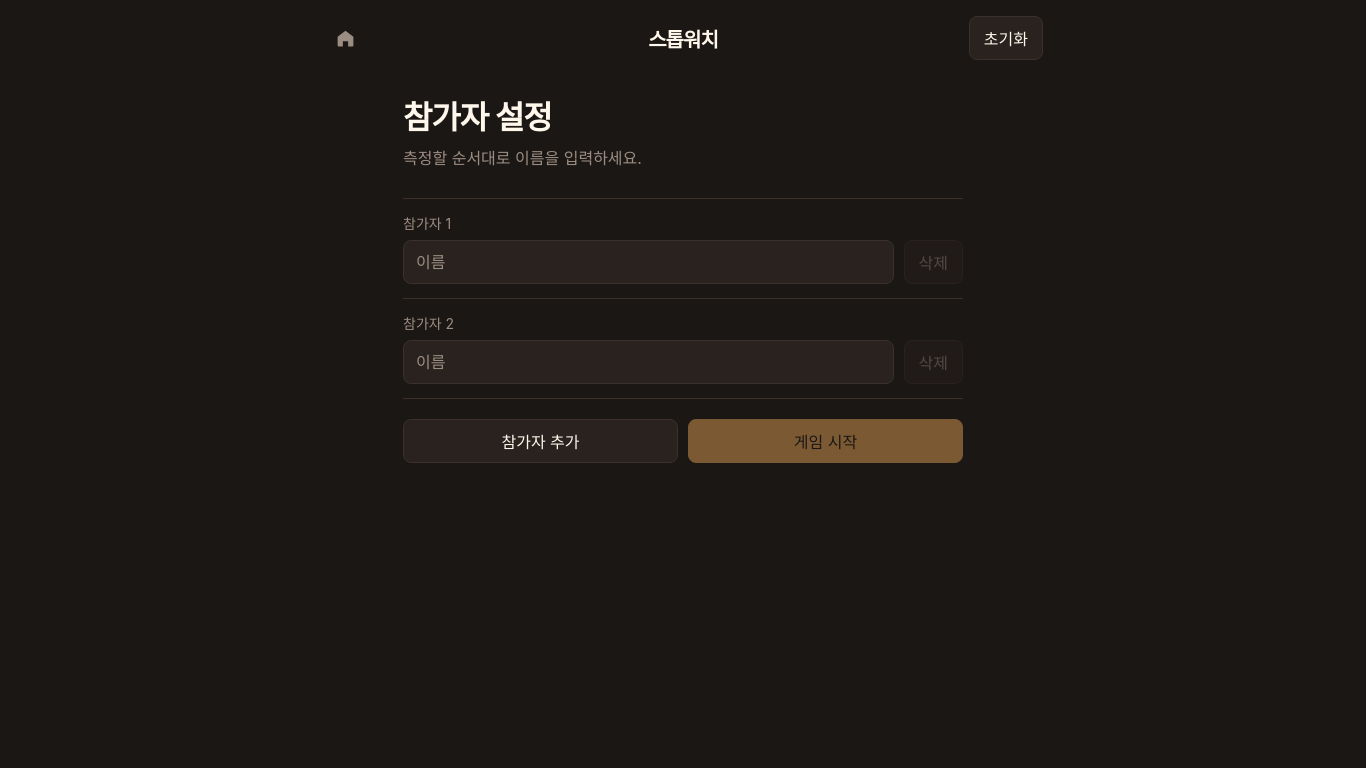
Test: StopwatchPage › 이름을 입력하면 홈 이동 전에 종료 확인을 한다
The image size is (1366, 768).
Type "짱구" into the field labelled "참가자 1" at (648, 262), box [403,240,894,284]
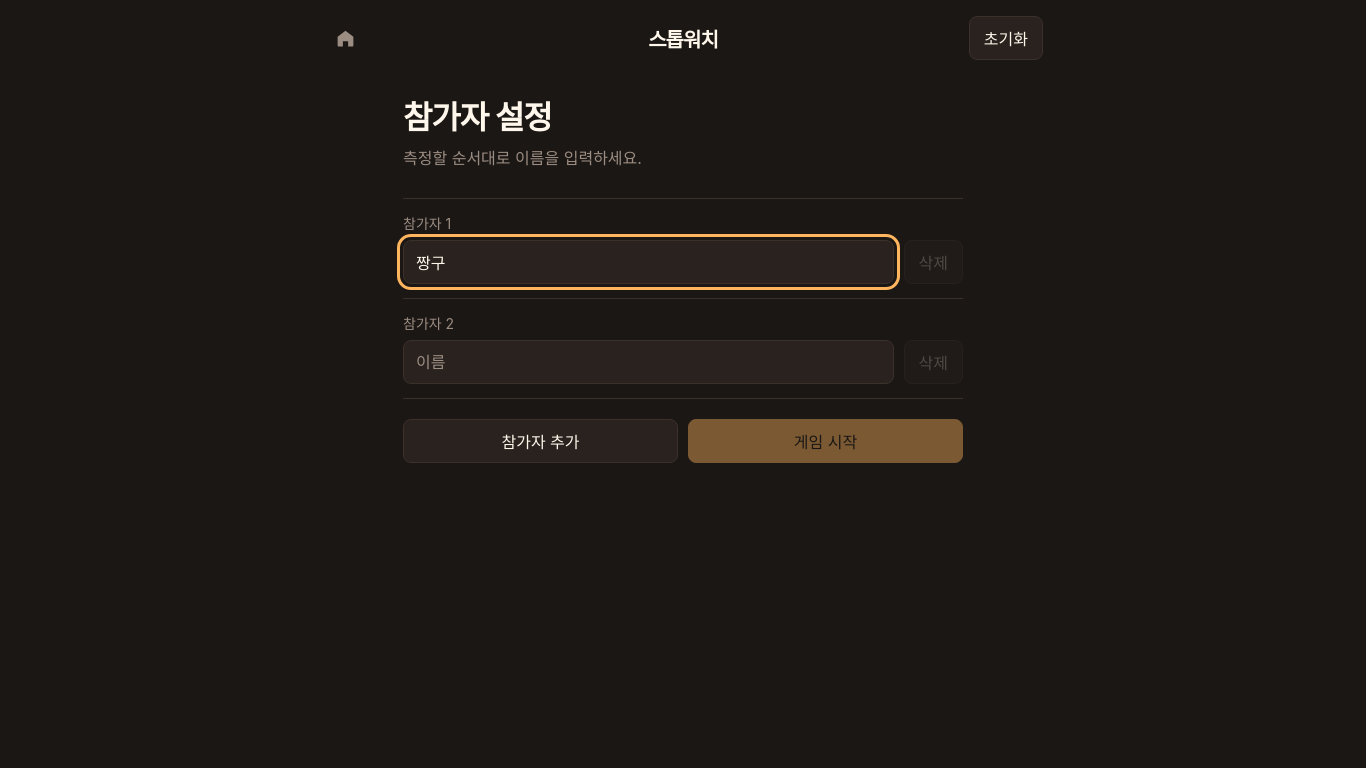
Click the button named "홈으로" at (345, 38), box [323,16,367,60]
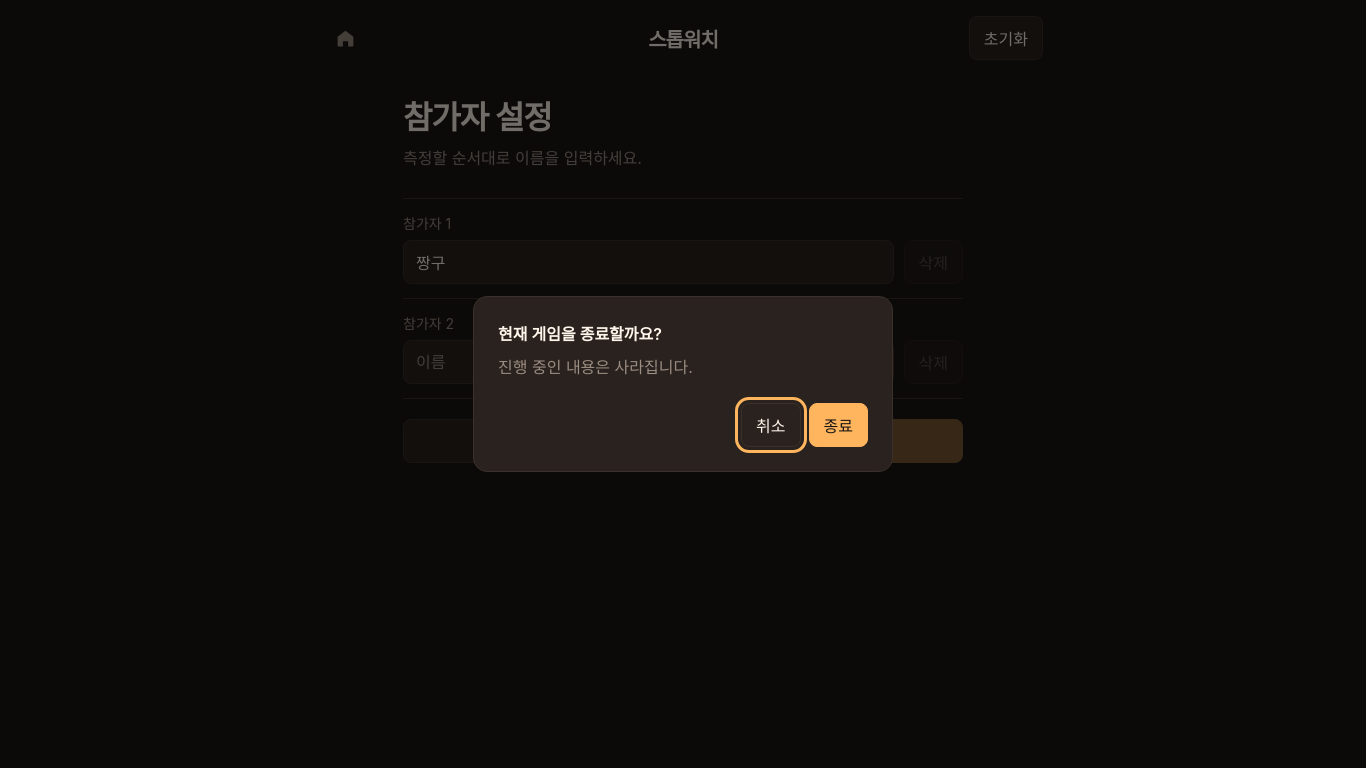
Expected: the dialog "현재 게임을 종료할까요?" is shown, [473,296,893,472]
